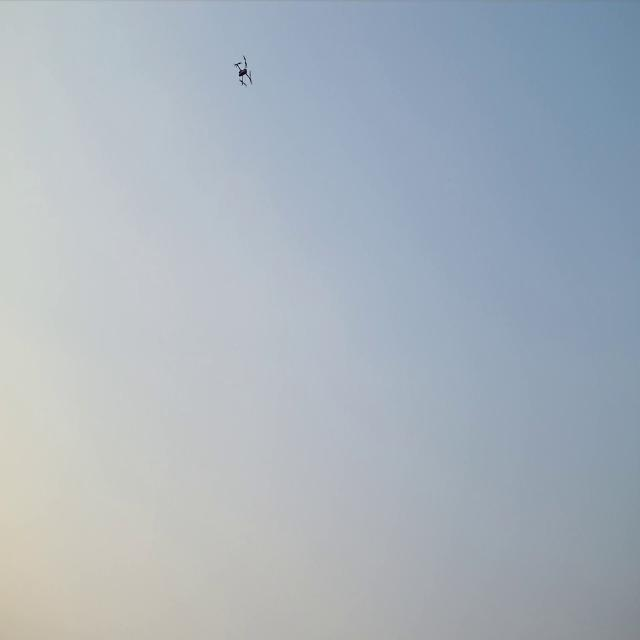UAV: (231, 52, 254, 88)
